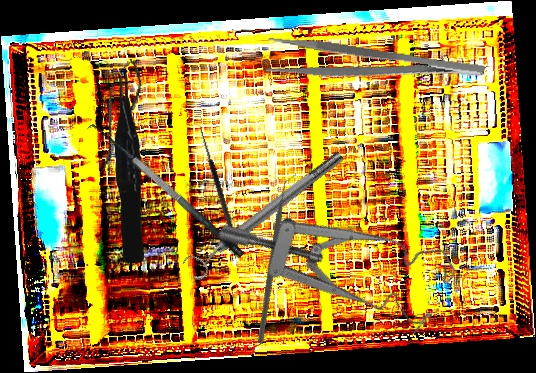Chopper: (203, 173, 353, 345)
Dressing Forceps: (264, 33, 486, 100)
Fixation Ring: (180, 144, 351, 284)
Hook Surgical: (190, 124, 240, 250)
Micro Scissor: (88, 56, 148, 178)
Spatula Surgical: (80, 115, 246, 272)
Speculum: (215, 135, 468, 372)
Tissue Forceps: (115, 74, 144, 263)
